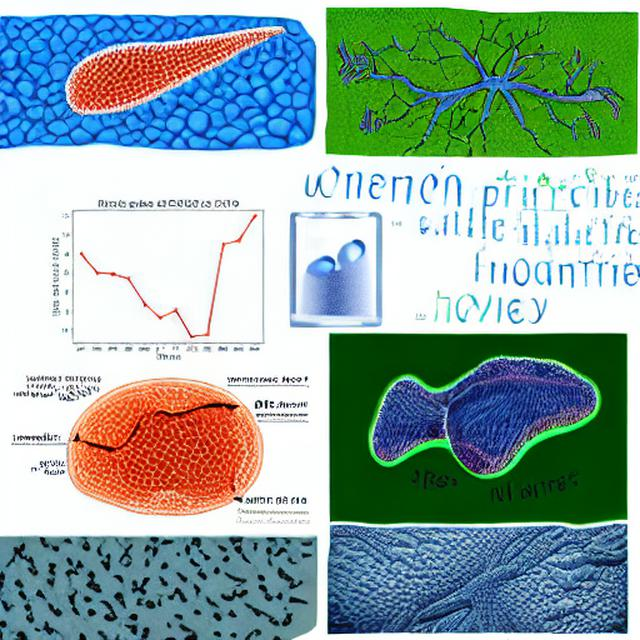Graph: (42, 183, 288, 368), (508, 207, 584, 252)
